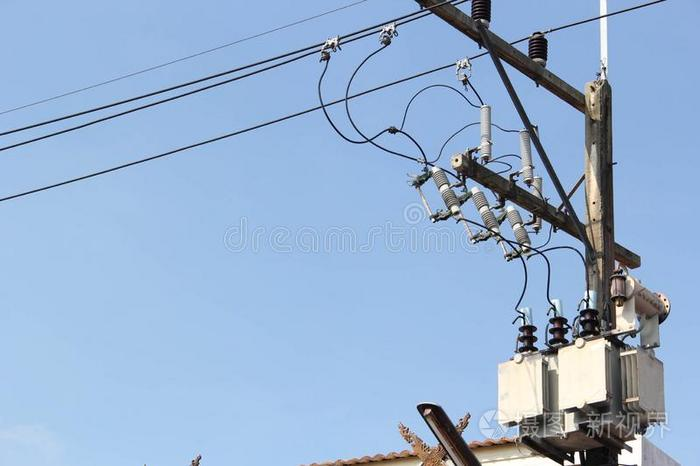insulator: (546, 314, 569, 347), (516, 324, 538, 355), (578, 306, 599, 337)
